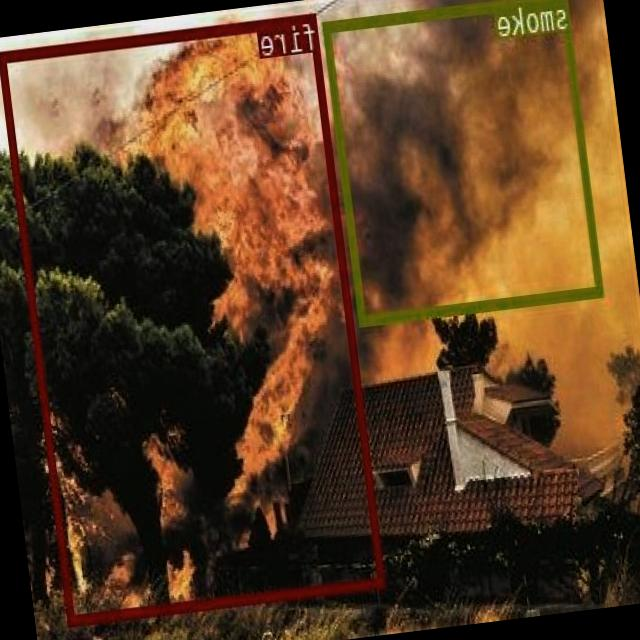fire: (0, 10, 386, 623)
smoke: (323, 0, 604, 322)
